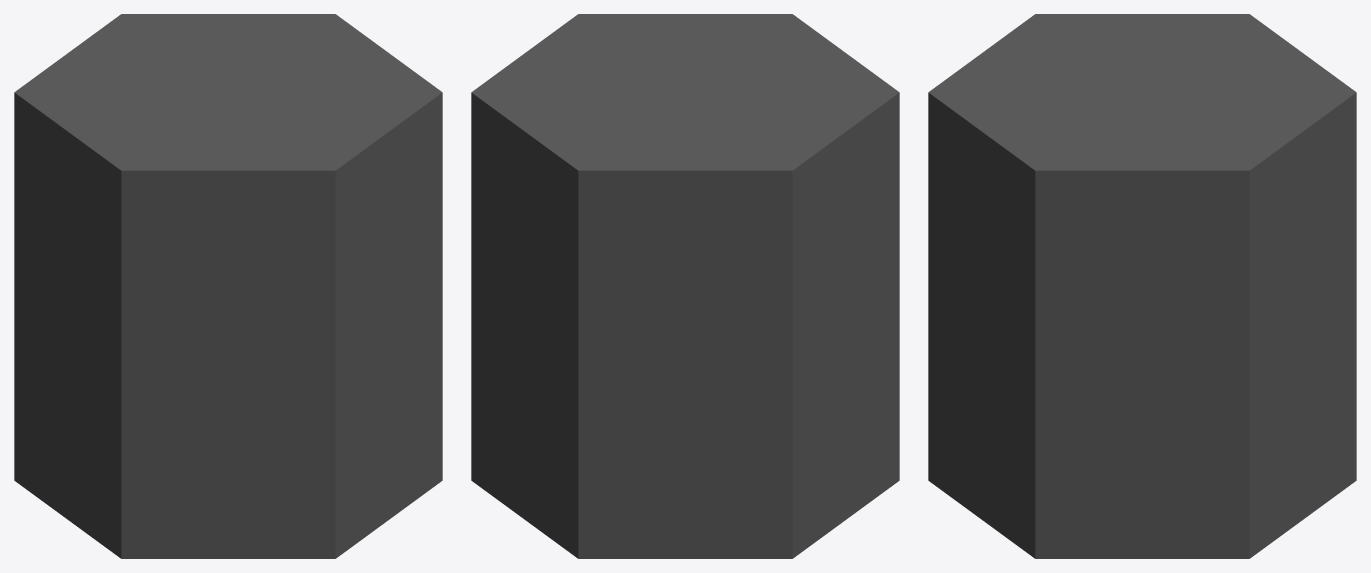
The model's file is pilar1.obj.
3 views of the same model, side by side, from view 1: azimuth 30°, elevation 25°; view 2: azimuth 150°, elevation 25°; view 3: azimuth 270°, elevation 25° (orthographic).
Visible parts, largest first — view 1: Cylinder.006; view 2: Cylinder.006; view 3: Cylinder.006.
Part boxes in pixels (bbox=[...]): Cylinder.006: bbox=[14, 14, 442, 558]; Cylinder.006: bbox=[471, 14, 899, 558]; Cylinder.006: bbox=[928, 14, 1356, 558].
Bounding box in the file's own units: 1.73 × 2 × 2.
Materials: 1 (1 with a texture image).
